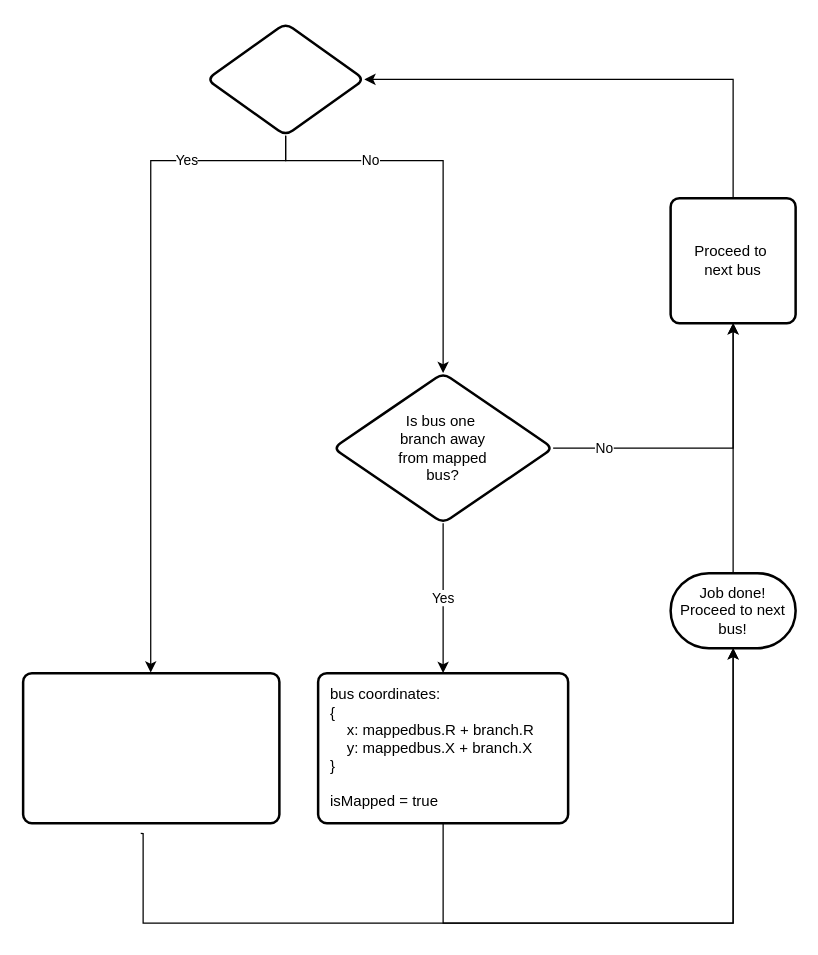
This 818x955 diagram has some shape labels left out. Each missing label, with the centre of its shape:
"bus coordinates: { x: 0 y: 0 } isMapped = true" belongs at (150,747).
"Is bus relaying point?" belongs at (285,78).
